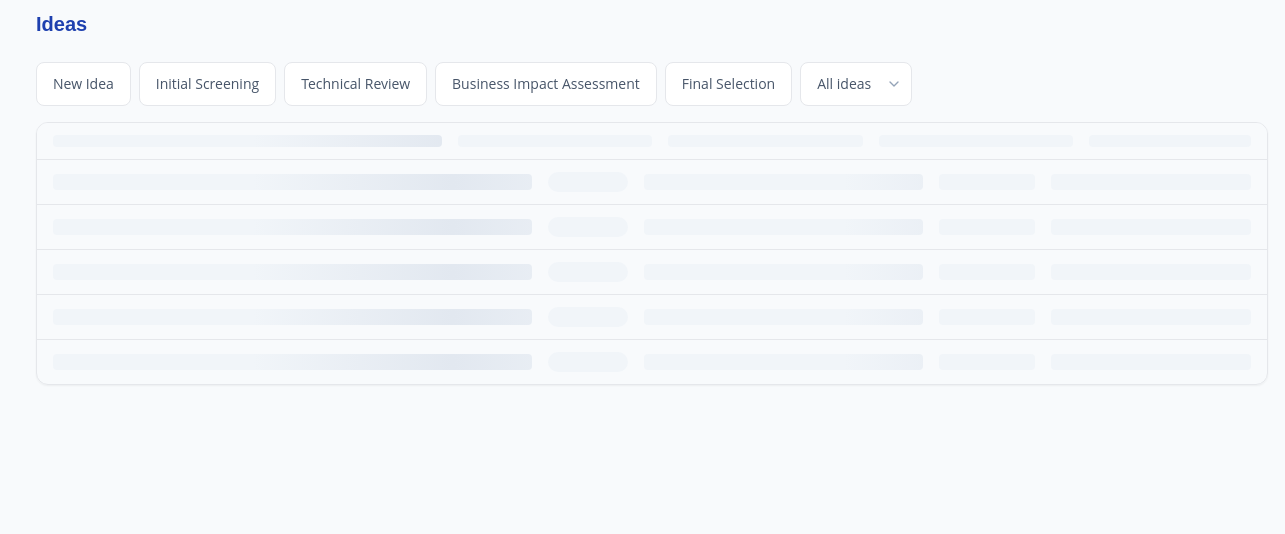
it: IdeasPage — StageFilterCards URL persistence › single card selected → URL has ?stage=<value>
Click the button "New Idea" at point(83, 84), box x1=36 y1=62 x2=131 y2=106
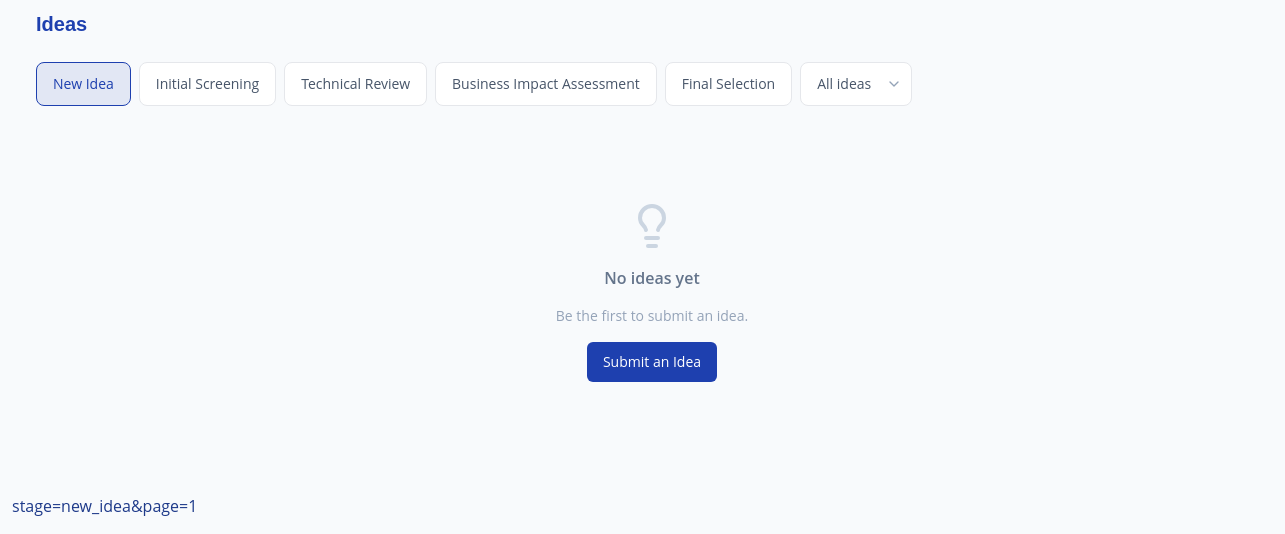
Check: the text with test id "search-params" shows "stage=new_idea", box x1=12 y1=495 x2=197 y2=517
